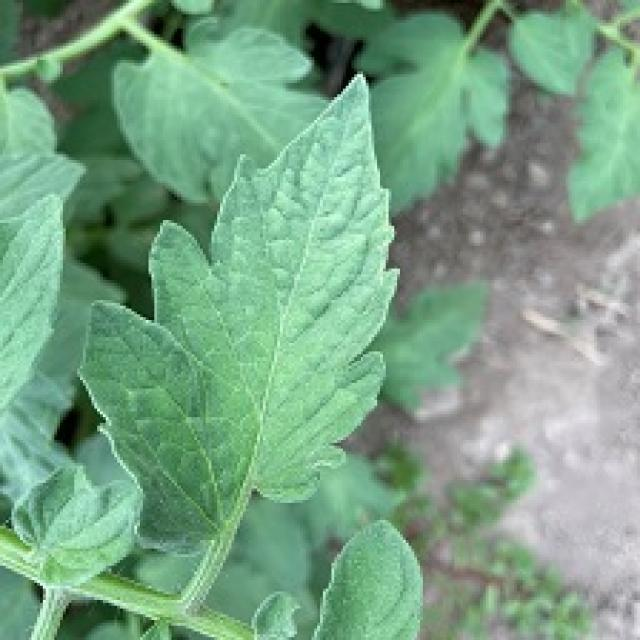Healthy: (0, 63, 542, 597)
